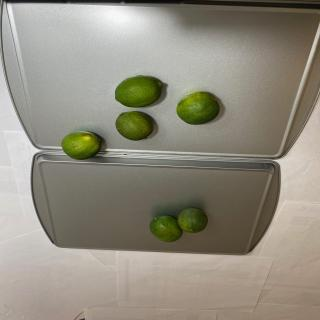Lemon: (114, 74, 163, 108), (176, 91, 220, 125), (115, 111, 154, 141), (61, 131, 101, 160), (149, 215, 183, 243), (177, 208, 208, 233)
